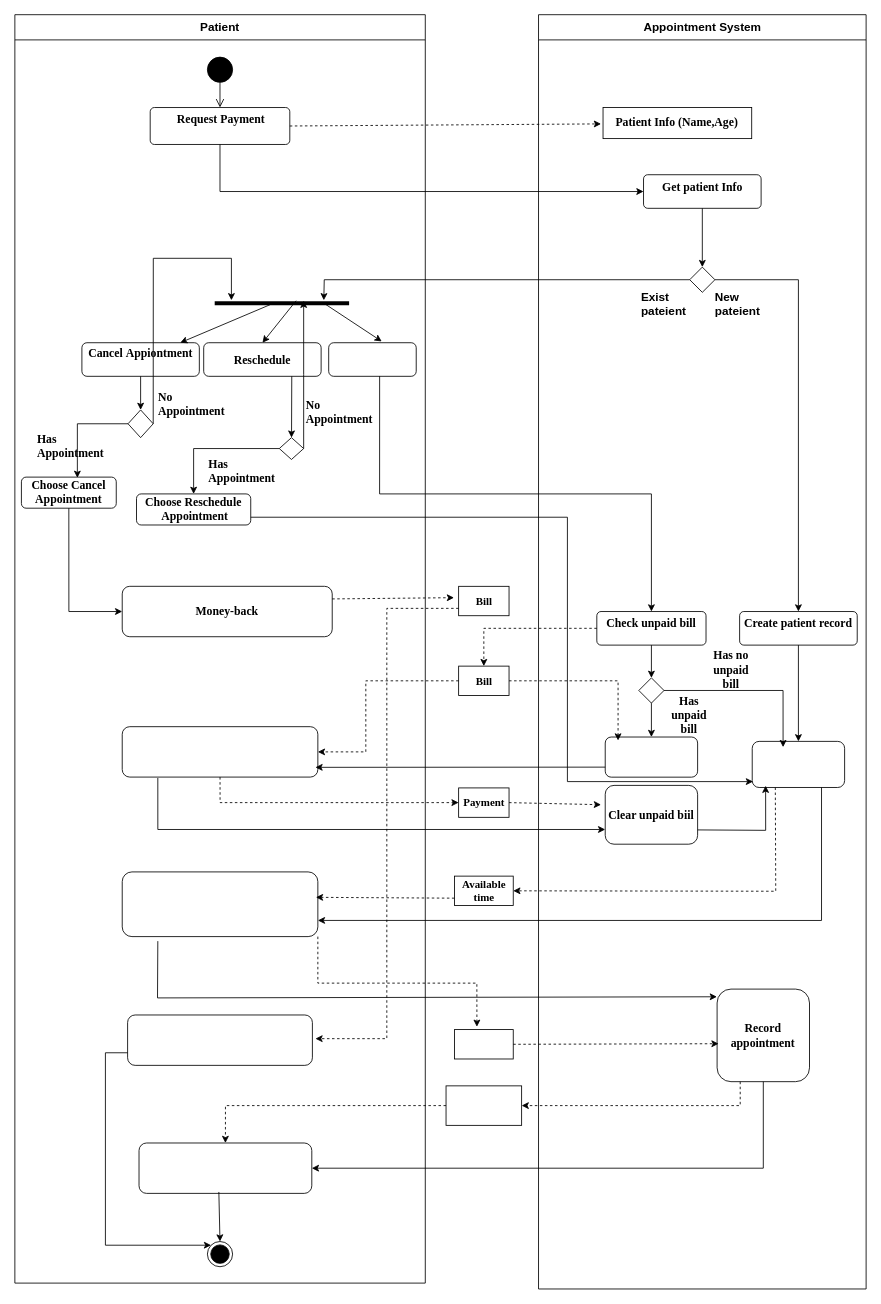
The diagram is 881 pixels wide and 1304 high, and some of its shapes have lost their labels. The centre of each missing label's shape, as x and y in pixels:
Appiontment Form: (x=483, y=1105)
Ask for payment: (x=651, y=756)
Change appointment Status: (x=219, y=1039)
Find available Time: (x=798, y=764)
Make Payment: (x=219, y=751)
Recieve Appiontment Form: (x=225, y=1167)
Schedule: (x=372, y=359)
Select Time: (x=219, y=904)
Time: (x=483, y=1044)
